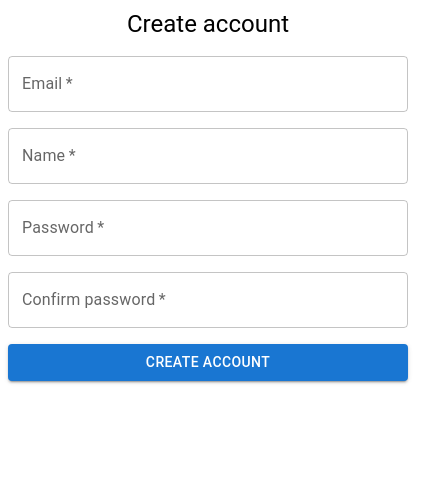
Test: AuthForm — signUp mode › shows all validation errors when submitted empty
Click the button "Create account": coordinates (208, 362) [8, 344, 408, 380]
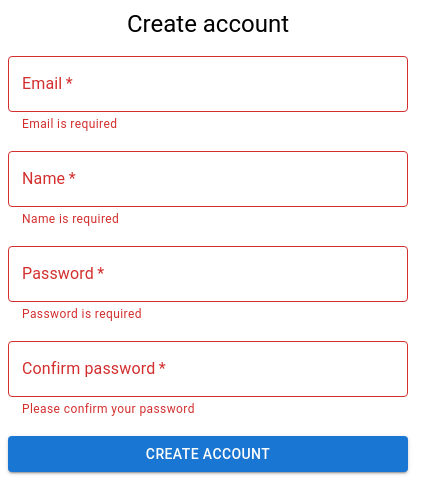
Check: the text "Email is required" is shown, box [22, 117, 117, 131]
Check: the text "Name is required" is shown, box [22, 212, 119, 226]
Check: the text "Password is required" is shown, box [22, 307, 142, 321]
